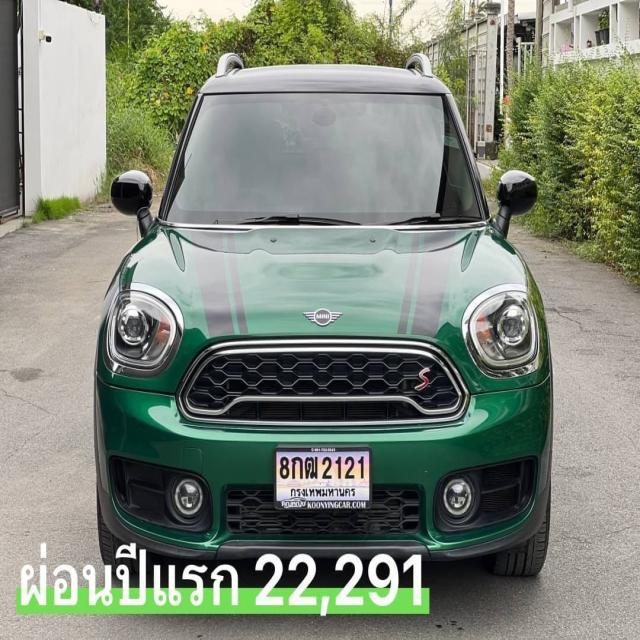license_plate: (274, 440, 372, 514)
